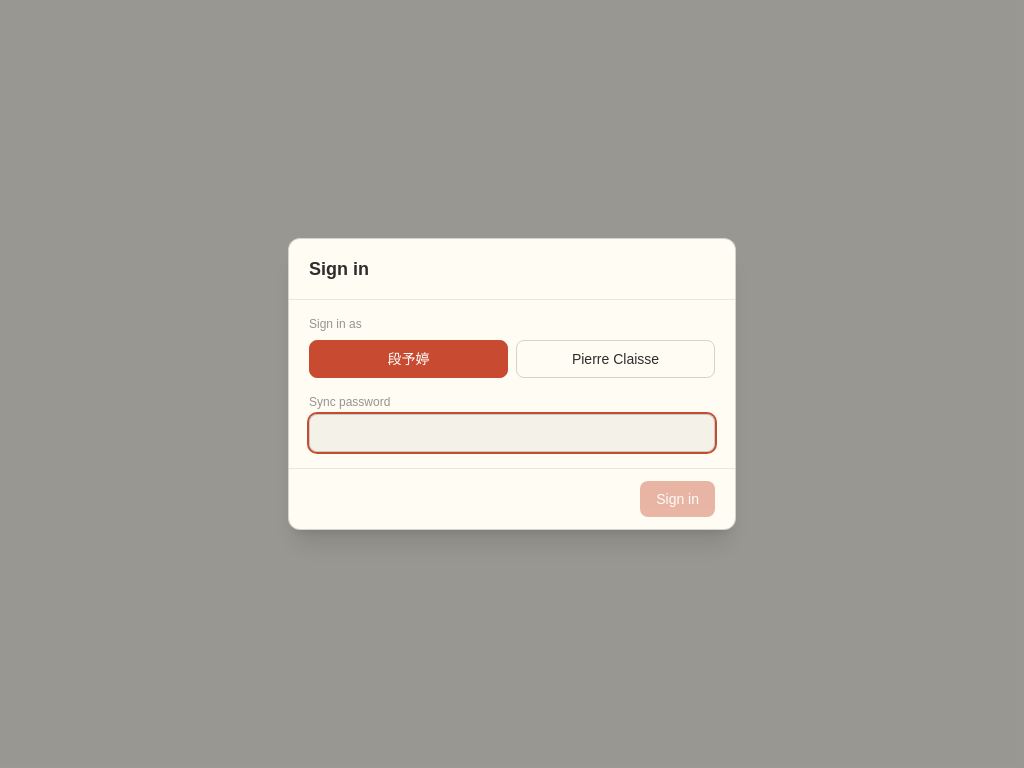
Test: LoginScreen › shows an inline error on a wrong password and stays in locked state
Step 1. Type "wrong" into the password field labelled "Sync password" → {"x": 512, "y": 433}, box left=309, top=414, right=715, bottom=452
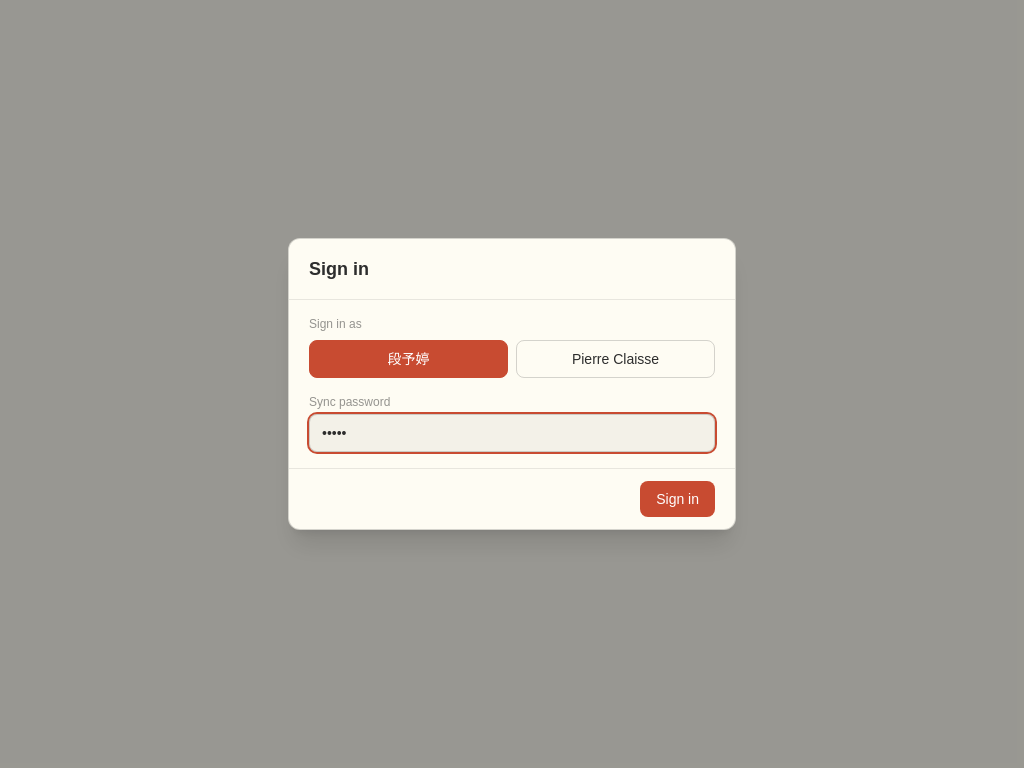
Step 2. Click the button "Sign in" → {"x": 678, "y": 499}, box left=640, top=481, right=715, bottom=517
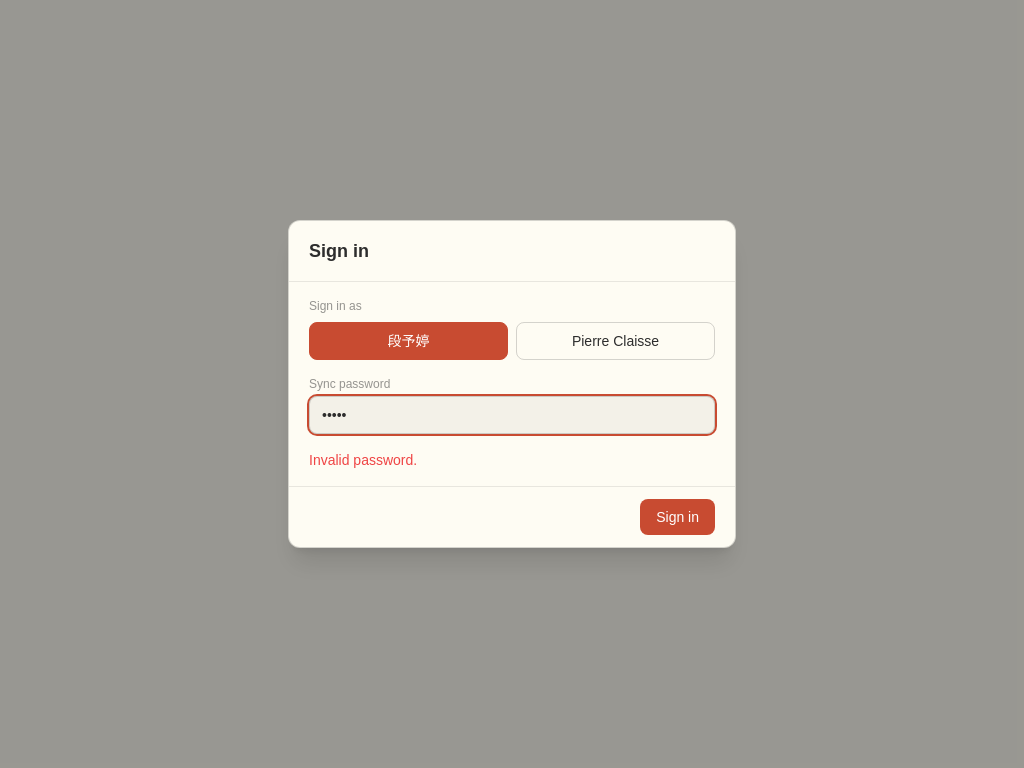
Check: the message shows "Invalid password", box left=309, top=452, right=417, bottom=468
